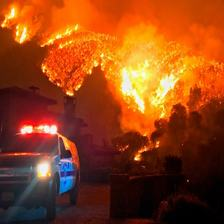fire: (8, 14, 212, 115)
